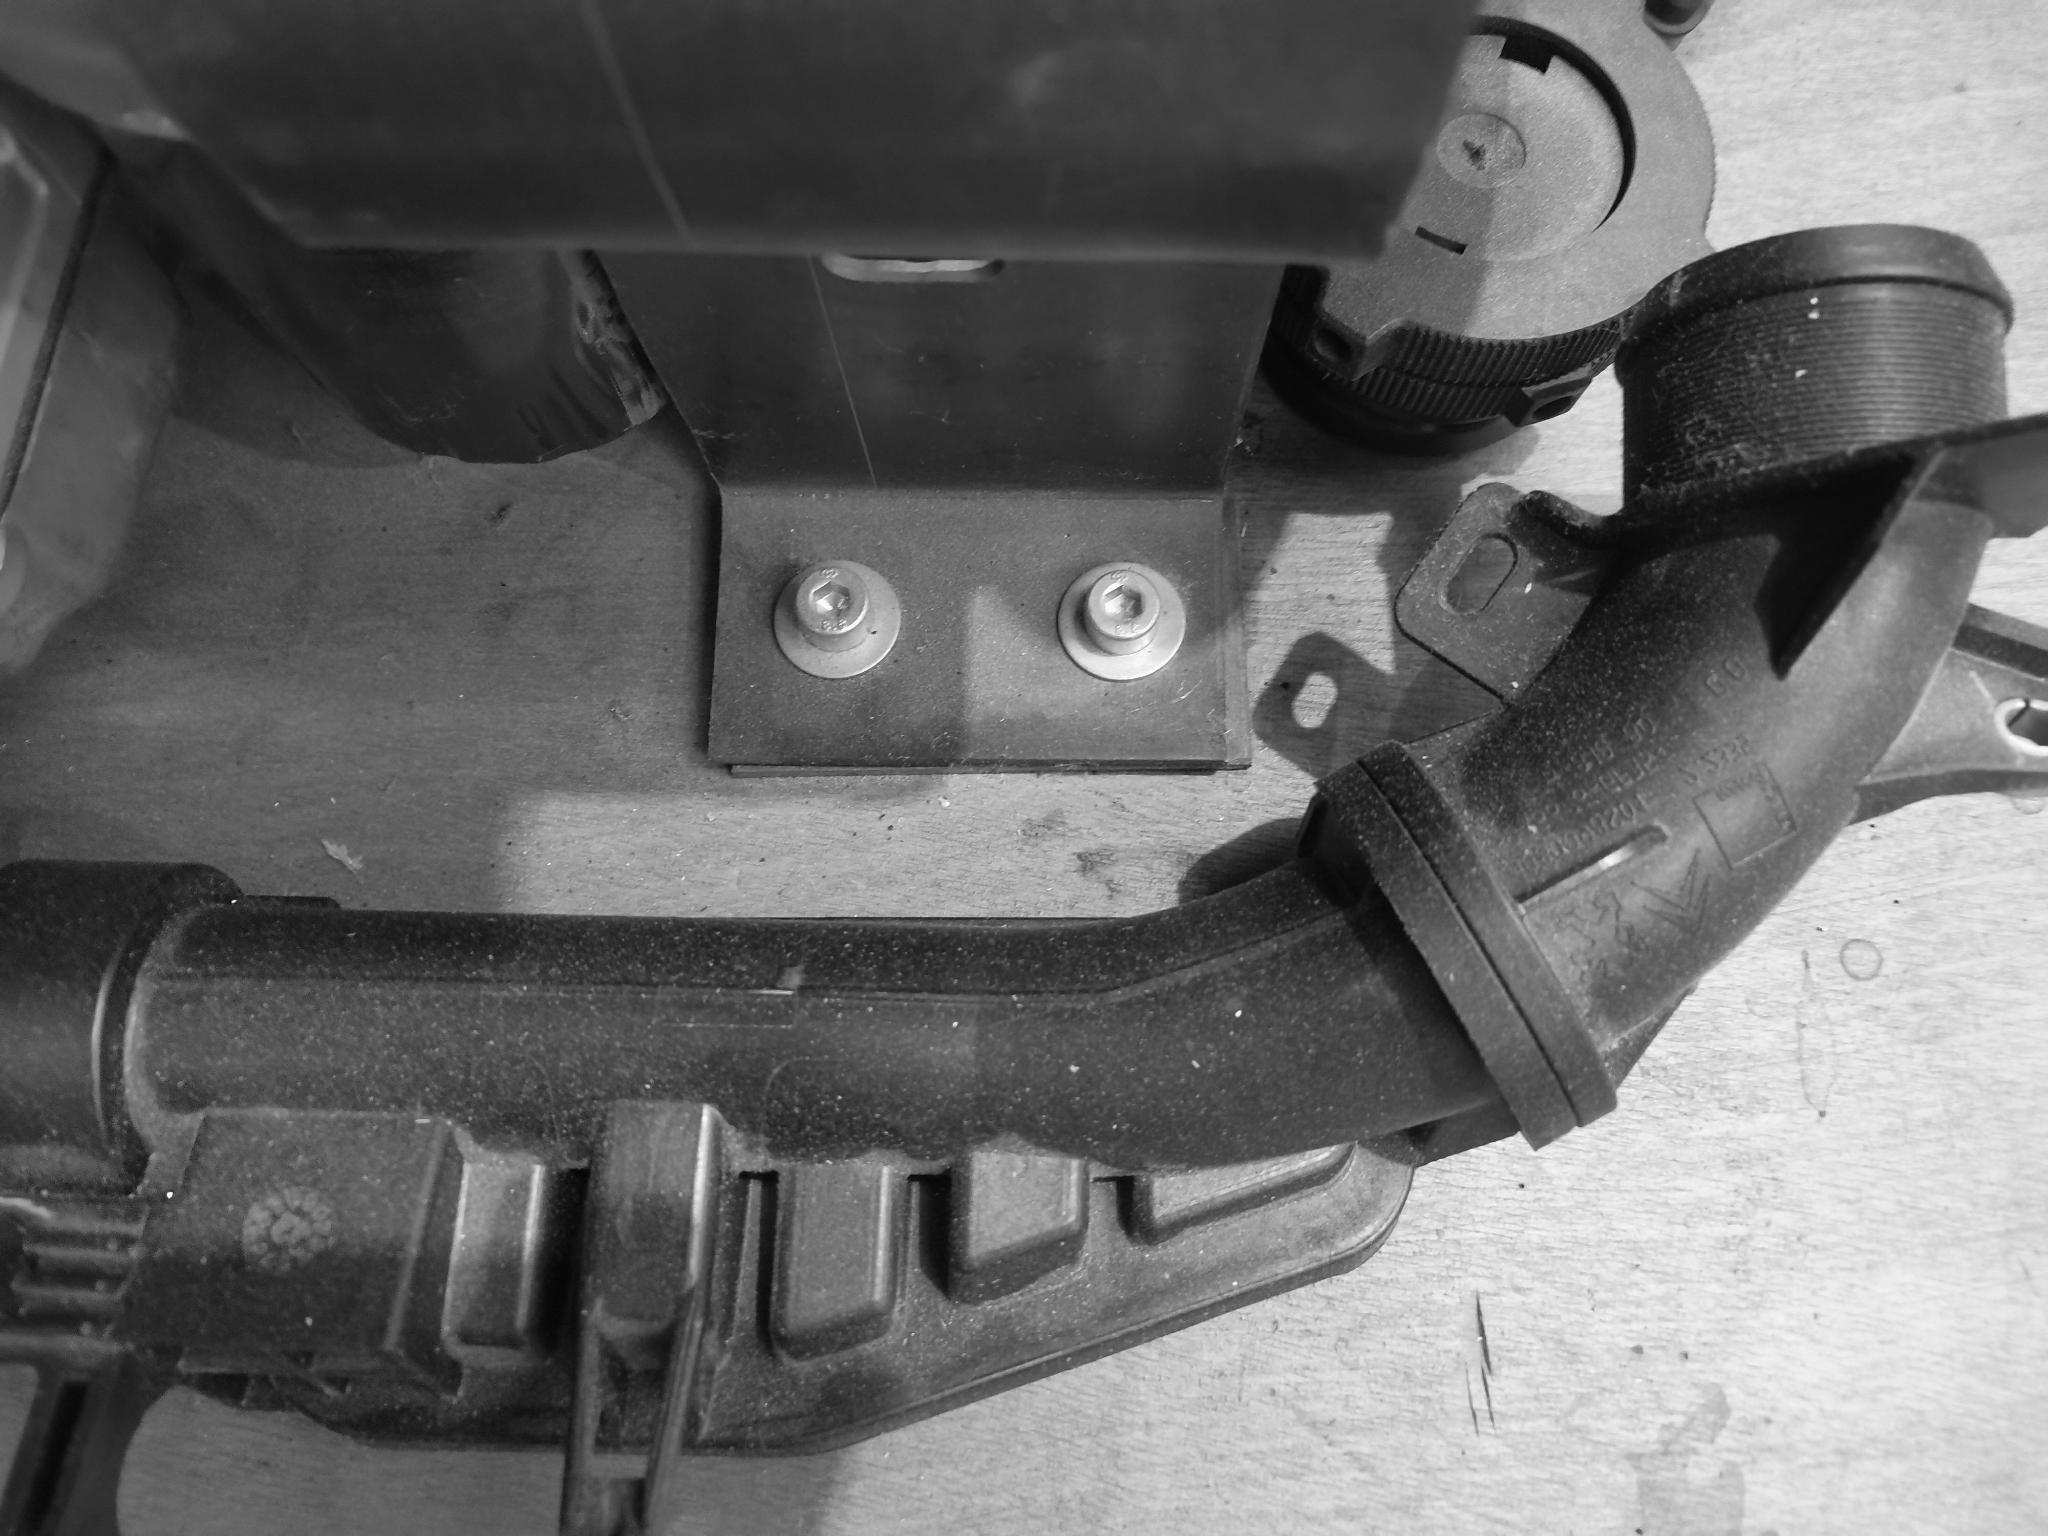screw: (761, 553, 916, 687), (1051, 560, 1192, 689)
